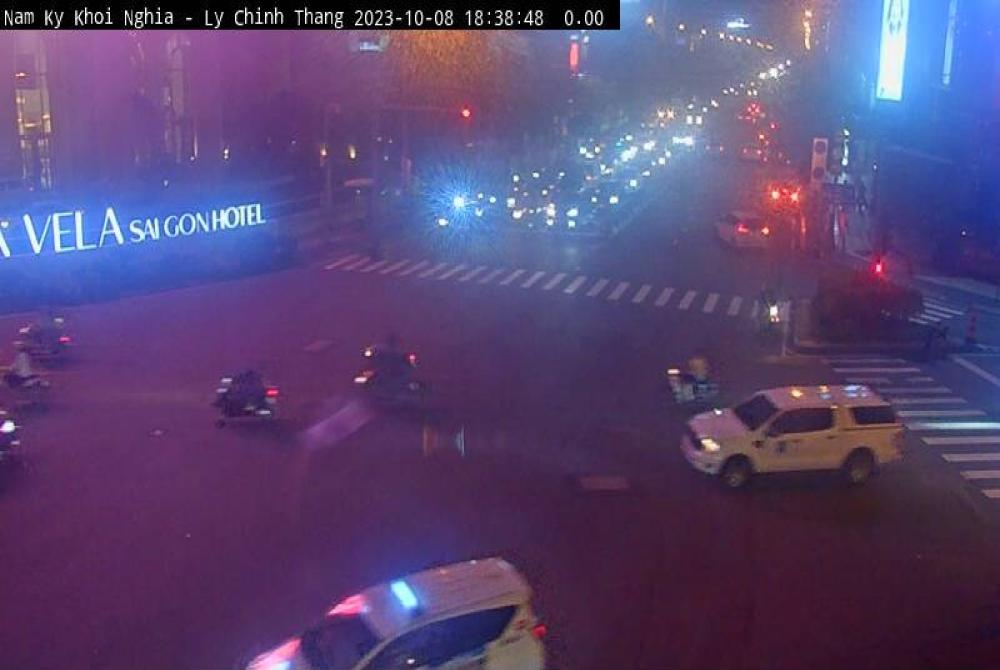car: (239, 549, 548, 670), (670, 385, 917, 490)
